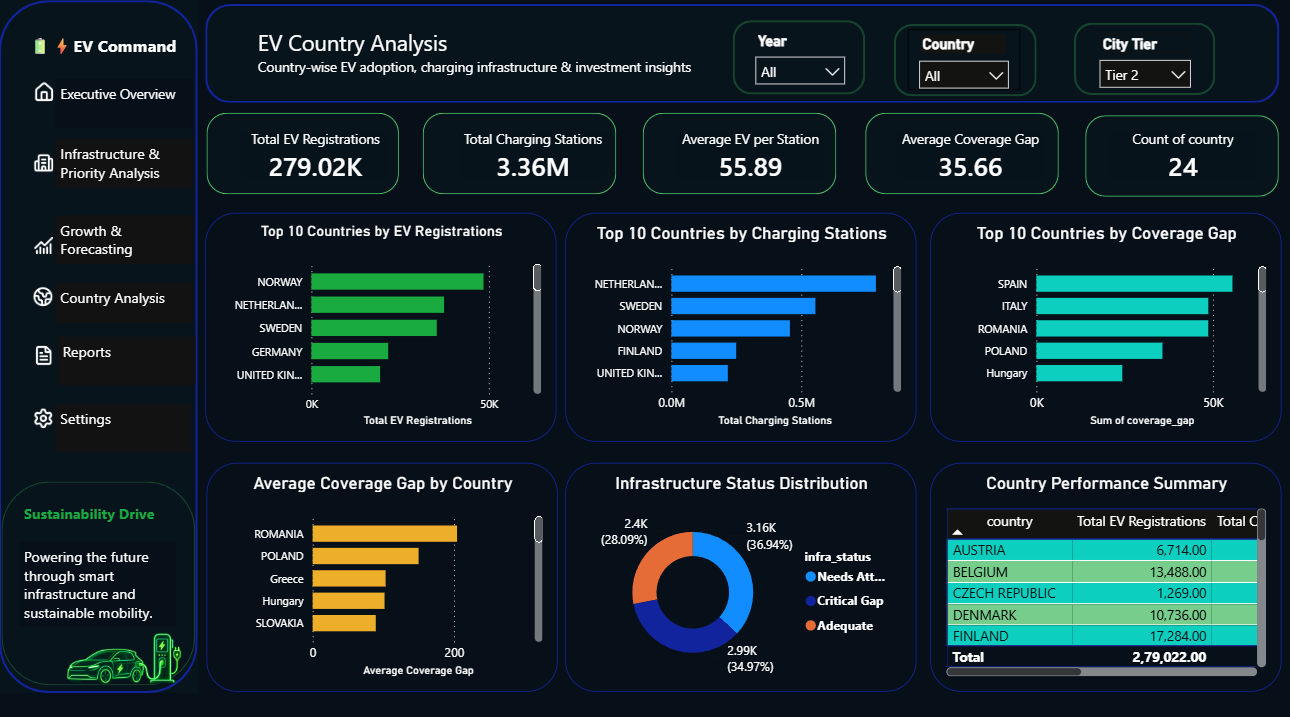

What the dashboard file says about the page in this screenshot:
{"tool":"powerbi","page":{"name":"4.Country Analysis","canvas":[1280,720],"ordinal":3},"visuals":[{"type":"slicer","fields":{"Values":["ev_charging_analysis ev_data.country"]},"box":[963.8,28.8,115,66.2],"z":0},{"type":"shape","box":[4.4,5.6,195,680],"z":1000},{"type":"textbox","box":[20,34.2,174,38.3],"z":2000},{"type":"textbox","box":[60.7,142.1,135,48],"z":3000},{"type":"textbox","box":[60.7,217.1,135,48],"z":4000},{"type":"textbox","box":[60.7,282.9,135,39],"z":5000},{"type":"textbox","box":[63,335.8,135,48],"z":6000},{"type":"textbox","box":[60.7,402.9,133,47],"z":7000},{"type":"image","box":[38.6,86.4,22.1,20.7],"z":8000},{"type":"image","box":[38.6,236.4,21,20],"z":9000},{"type":"image","box":[38.6,156.4,21,20],"z":10000},{"type":"image","box":[38.6,287.1,20.7,20],"z":11000},{"type":"image","box":[38.6,345,21,20],"z":12000},{"type":"image","box":[38.6,406.4,20.7,20.7],"z":13000},{"type":"textbox","box":[60.7,82.9,135,48],"z":14000},{"type":"shape","box":[7.8,478.9,190,200],"z":15000},{"type":"image","box":[60,612.2,128.9,84.4],"z":16000},{"type":"textbox","box":[24.4,495.6,154.4,34.4],"z":17000},{"type":"textbox","box":[24.2,537.5,154.3,84.3],"z":18000},{"type":"shape","box":[207,10,1054.3,97.1],"z":19000},{"type":"textbox","box":[253.5,28.3,527.5,69.5],"z":20000},{"type":"shape","box":[725.7,25.7,130,72.9],"z":21000},{"type":"shape","box":[882.9,30,140,71],"z":22000},{"type":"shape","box":[1060,28.6,138.6,71],"z":23000},{"type":"slicer","fields":{"Values":["ev_charging_analysis ev_data.year"]},"box":[735.8,32.5,110,60],"z":24000},{"type":"slicer","fields":{"Values":["ev_charging_analysis ev_data.country"]},"box":[897.5,34.2,110,60],"z":25000},{"type":"slicer","fields":{"Values":["ev_charging_analysis ev_data.city_tier"]},"box":[1075,34.2,110,60],"z":26000},{"type":"shape","box":[421.4,117.1,190,80],"z":27000},{"type":"shape","box":[637.1,117.1,190,80],"z":28000},{"type":"shape","box":[855.7,117.1,190,80],"z":29000},{"type":"shape","box":[1071.4,118.6,190,80],"z":30000},{"type":"shape","box":[209,117.1,189,80],"z":31000},{"type":"cardVisual","fields":{"Data":["ev_charging_analysis ev_data.Total EV Registrations"]},"box":[237.8,131.1,155,55],"z":32000},{"type":"cardVisual","fields":{"Data":["Count(ev_charging_analysis ev_data.country)"]},"box":[1090,131.1,155,55],"z":33000},{"type":"cardVisual","fields":{"Data":["ev_charging_analysis ev_data.Total Charging Stations"]},"box":[451.1,131.1,155,55],"z":34000},{"type":"cardVisual","fields":{"Data":["ev_charging_analysis ev_data.Average EV per Station"]},"box":[664.4,131.1,155,55],"z":35000},{"type":"cardVisual","fields":{"Data":["ev_charging_analysis ev_data.Average Coverage Gap"]},"box":[881.1,131.1,155,55],"z":36000},{"type":"clusteredBarChart","title":"Top 10 Countries by EV Registrations","fields":{"Category":["ev_charging_analysis ev_data.country"],"Y":["ev_charging_analysis ev_data.Total EV Registrations"]},"box":[207,214.3,345,225],"z":37000},{"type":"clusteredBarChart","title":"Top 10 Countries by Charging Stations","fields":{"Category":["ev_charging_analysis ev_data.country"],"Y":["ev_charging_analysis ev_data.Total Charging Stations"]},"box":[561,214.3,345,225],"z":38000},{"type":"clusteredBarChart","title":"Top 10 Countries by Coverage Gap","fields":{"Category":["ev_charging_analysis ev_data.country"],"Y":["Sum(ev_charging_analysis ev_data.coverage_gap)"]},"box":[919,214.3,345,225],"z":39000},{"type":"clusteredBarChart","title":"Average Coverage Gap by Country","fields":{"Category":["ev_charging_analysis ev_data.country"],"Y":["ev_charging_analysis ev_data.Average Coverage Gap"]},"box":[208.6,460,345,225],"z":40000},{"type":"donutChart","title":"Infrastructure Status Distribution","fields":{"Category":["ev_charging_analysis ev_data.infra_status"],"Y":["CountNonNull(ev_charging_analysis ev_data.country)"]},"box":[561,460,345,225],"z":41000},{"type":"tableEx","title":"Country Performance Summary","fields":{"Values":["ev_charging_analysis ev_data.country","ev_charging_analysis ev_data.Total EV Registrations","ev_charging_analysis ev_data.Total Charging Stations","ev_charging_analysis ev_data.Average EV per Station","ev_charging_analysis ev_data.Average Coverage Gap"]},"box":[918.6,460,345,225],"z":42000}]}

Visuals, with their boxes on the page's 1280x720 design canvas (x1, y1, x2, y2). These are canvas units, not pixel positions in the 1290x717 screenshot, which may show the page scaled, cropped or inside an application window:
slicer - ev_charging_analysis ev_data.country: box(964, 29, 1079, 95)
shape: box(4, 6, 199, 686)
textbox: box(20, 34, 194, 72)
textbox: box(61, 142, 196, 190)
textbox: box(61, 217, 196, 265)
textbox: box(61, 283, 196, 322)
textbox: box(63, 336, 198, 384)
textbox: box(61, 403, 194, 450)
image: box(39, 86, 61, 107)
image: box(39, 236, 60, 256)
image: box(39, 156, 60, 176)
image: box(39, 287, 59, 307)
image: box(39, 345, 60, 365)
image: box(39, 406, 59, 427)
textbox: box(61, 83, 196, 131)
shape: box(8, 479, 198, 679)
image: box(60, 612, 189, 697)
textbox: box(24, 496, 179, 530)
textbox: box(24, 538, 178, 622)
shape: box(207, 10, 1261, 107)
textbox: box(254, 28, 781, 98)
shape: box(726, 26, 856, 99)
shape: box(883, 30, 1023, 101)
shape: box(1060, 29, 1199, 100)
slicer - ev_charging_analysis ev_data.year: box(736, 32, 846, 92)
slicer - ev_charging_analysis ev_data.country: box(898, 34, 1008, 94)
slicer - ev_charging_analysis ev_data.city_tier: box(1075, 34, 1185, 94)
shape: box(421, 117, 611, 197)
shape: box(637, 117, 827, 197)
shape: box(856, 117, 1046, 197)
shape: box(1071, 119, 1261, 199)
shape: box(209, 117, 398, 197)
cardVisual - ev_charging_analysis ev_data.Total EV Registrations: box(238, 131, 393, 186)
cardVisual - Count(ev_charging_analysis ev_data.country): box(1090, 131, 1245, 186)
cardVisual - ev_charging_analysis ev_data.Total Charging Stations: box(451, 131, 606, 186)
cardVisual - ev_charging_analysis ev_data.Average EV per Station: box(664, 131, 819, 186)
cardVisual - ev_charging_analysis ev_data.Average Coverage Gap: box(881, 131, 1036, 186)
"Top 10 Countries by EV Registrations" clusteredBarChart: box(207, 214, 552, 439)
"Top 10 Countries by Charging Stations" clusteredBarChart: box(561, 214, 906, 439)
"Top 10 Countries by Coverage Gap" clusteredBarChart: box(919, 214, 1264, 439)
"Average Coverage Gap by Country" clusteredBarChart: box(209, 460, 554, 685)
"Infrastructure Status Distribution" donutChart: box(561, 460, 906, 685)
"Country Performance Summary" tableEx: box(919, 460, 1264, 685)
